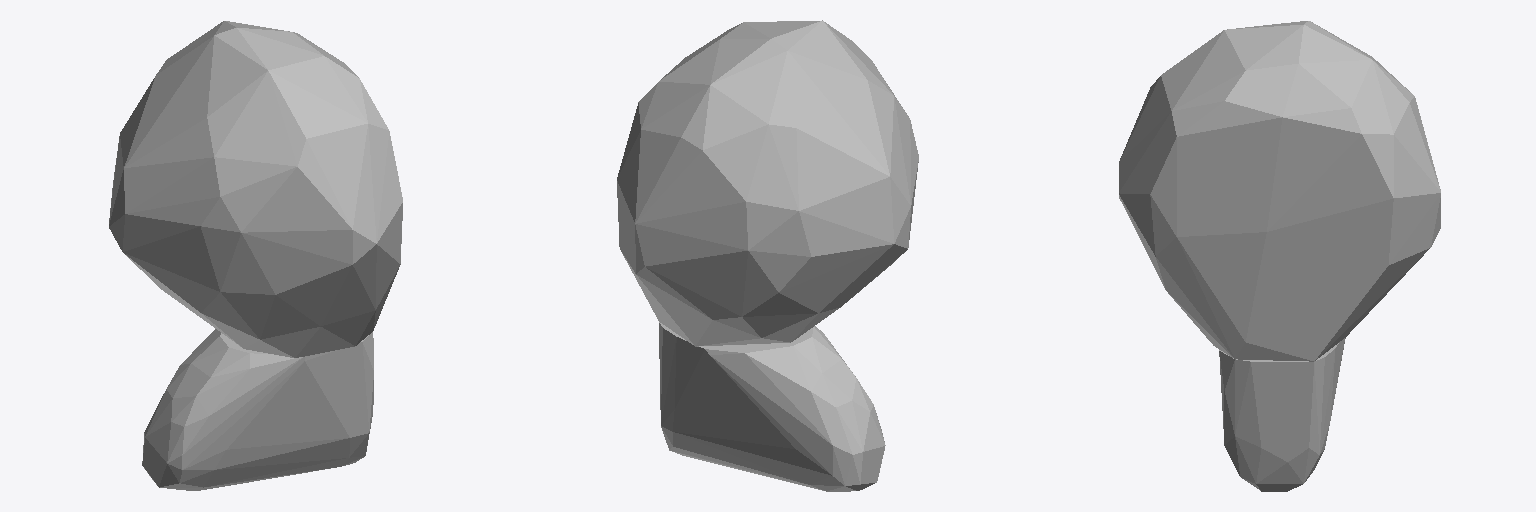
robot.urdf — root:
<robot name="root"><link name="link_Fish_800_tex_0000"><inertial><origin rpy="0 0 0" xyz="0 0 0" /><mass value="3.68E-02" /><inertia ixx="1.95E-05" ixy="8.61E-08" ixz="3.45E-06" iyy="2.19E-05" iyz="1.65E-07" izz="3.64E-06" /></inertial><visual><origin rpy="0 0 0" xyz="0 0 0" /><geometry><mesh filename="package://Fish_800_tex/Fish_800_tex_0000.obj" /></geometry><material name=""><color rgba="0.75 0.75 0.75 1" /></material></visual><collision><origin rpy="0 0 0" xyz="0 0 0" /><geometry><mesh filename="package://Fish_800_tex/Fish_800_tex_0000.obj" /></geometry></collision></link><link name="link_Fish_800_tex_0001"><inertial><origin rpy="0 0 0" xyz="0 0 0" /><mass value="1.89E-01" /><inertia ixx="5.59E-05" ixy="-6.52E-07" ixz="-4.30E-06" iyy="5.15E-05" iyz="-1.13E-06" izz="3.33E-05" /></inertial><visual><origin rpy="0 0 0" xyz="0 0 0" /><geometry><mesh filename="package://Fish_800_tex/Fish_800_tex_0001.obj" /></geometry><material name=""><color rgba="0.75 0.75 0.75 1" /></material></visual><collision><origin rpy="0 0 0" xyz="0 0 0" /><geometry><mesh filename="package://Fish_800_tex/Fish_800_tex_0001.obj" /></geometry></collision></link><joint name="link_Fish_800_tex_0001_joint" type="fixed"><origin rpy="0 0 0" xyz="0 0 0" /><parent link="link_Fish_800_tex_0000" /><child link="link_Fish_800_tex_0001" /></joint></robot>

--- Render facts (derived) ---
The picture shows the robot from 3 angles, left to right: view 1: azimuth 30°, elevation 25°; view 2: azimuth 150°, elevation 25°; view 3: azimuth 270°, elevation 25°; orthographic projection.
Model root with 2 links and 1 joints (1 fixed), rooted at link_Fish_800_tex_0000, posed all joints at 0.
Links seen in each view (by area): view 1: link_Fish_800_tex_0001, link_Fish_800_tex_0000; view 2: link_Fish_800_tex_0001, link_Fish_800_tex_0000; view 3: link_Fish_800_tex_0001, link_Fish_800_tex_0000.
Link boxes in pixels (x1,y1,x2,y2): link_Fish_800_tex_0001: (109,21,402,357); link_Fish_800_tex_0000: (142,329,373,490); link_Fish_800_tex_0001: (617,20,918,346); link_Fish_800_tex_0000: (659,322,885,491); link_Fish_800_tex_0001: (1119,21,1440,361); link_Fish_800_tex_0000: (1219,338,1345,491).
Size in the robot's own frame: 0.0362 by 0.046 by 0.0663 metres.
Meshes: 2 distinct files referenced, 2 mesh visuals loaded (2 OBJ).